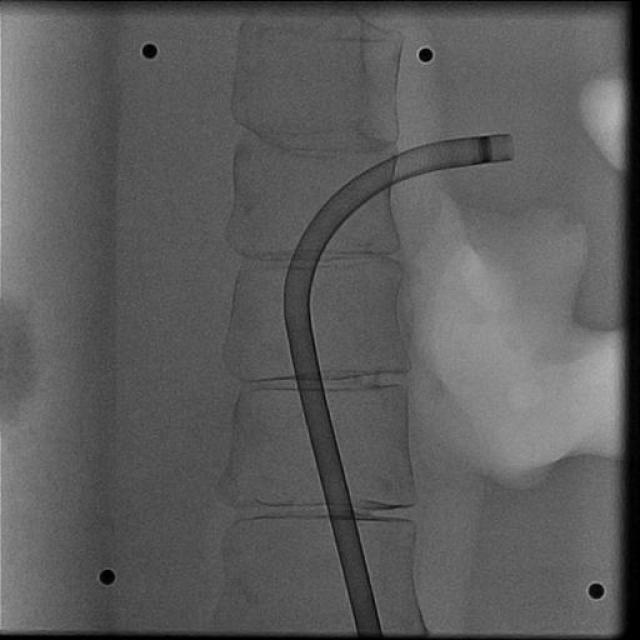bend: (284, 306, 310, 326)
entry: (357, 628, 382, 635)
marker: (477, 135, 493, 164)
tip: (501, 135, 515, 161)
